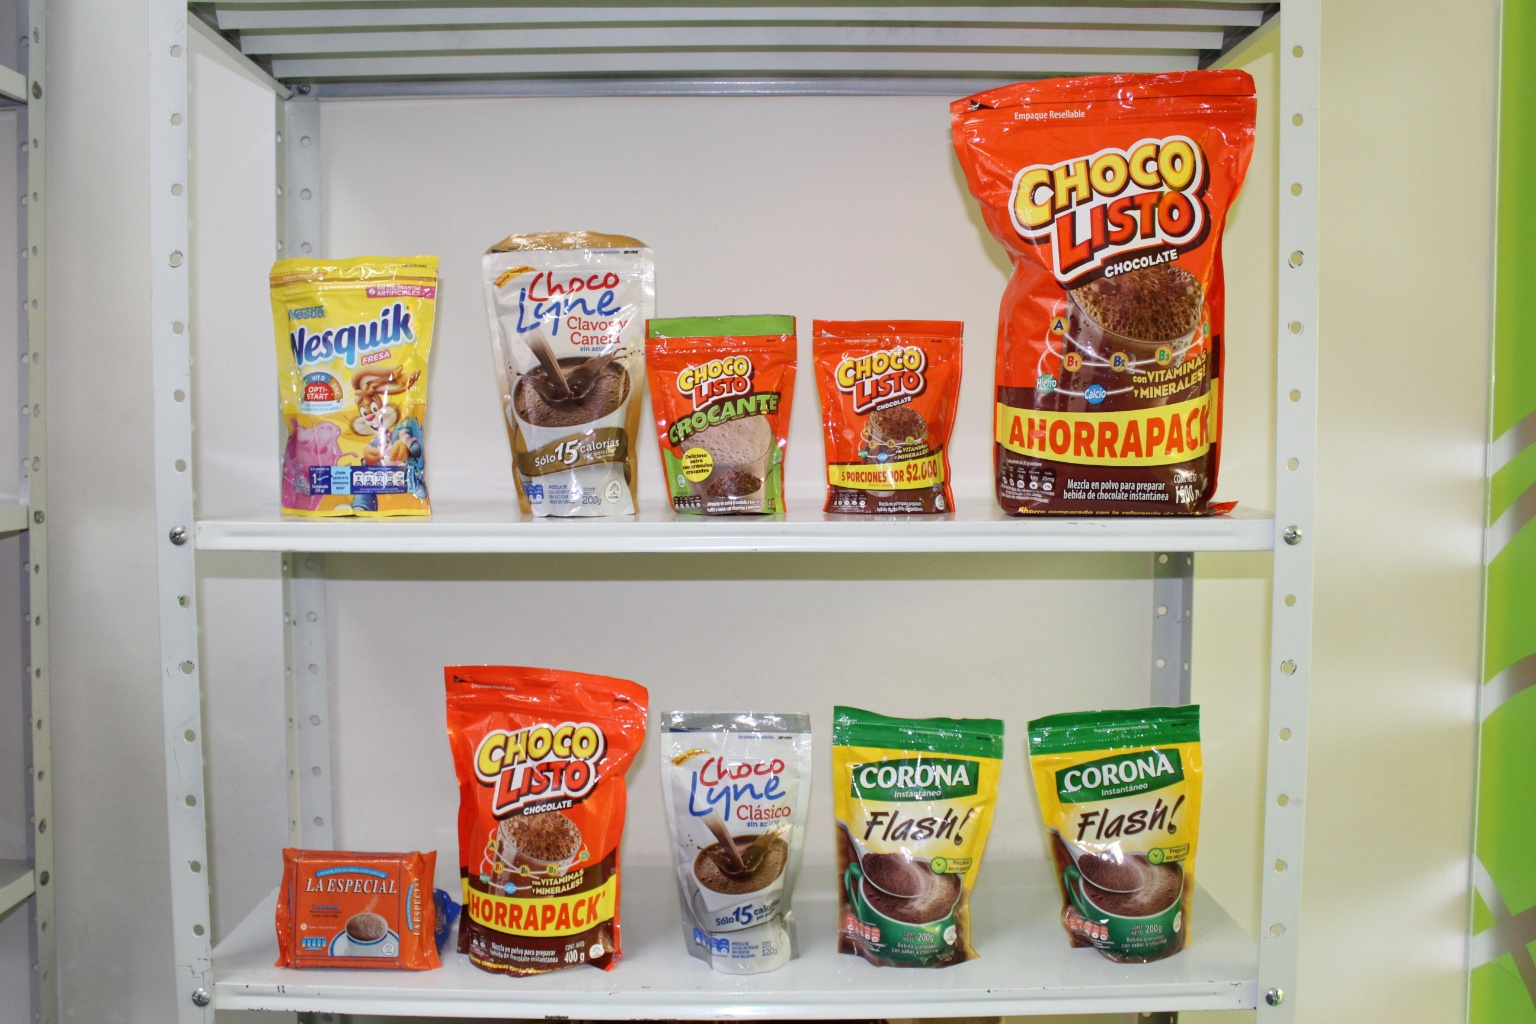COL0170102DYP10000: (645, 303, 818, 522)
COL0170103DYP1,500: (939, 39, 1267, 520)
COL0170103DYP10000: (813, 315, 978, 512)
COL0170103DYP40000: (443, 654, 661, 982)
COL0170305DYP20000: (262, 251, 449, 526)
